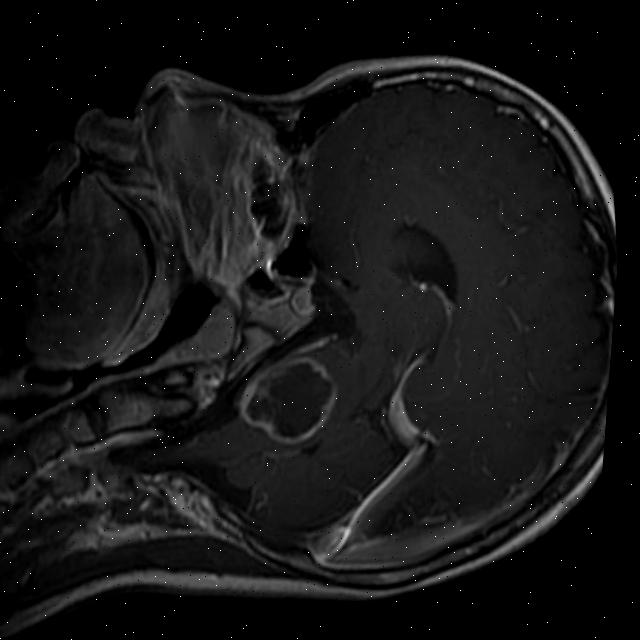Glioma: (227, 347, 348, 456)
